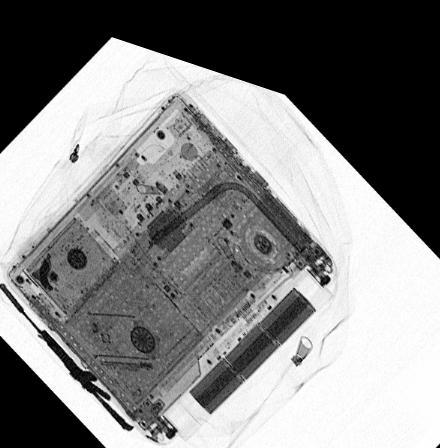Gun: (0, 282, 134, 423)
